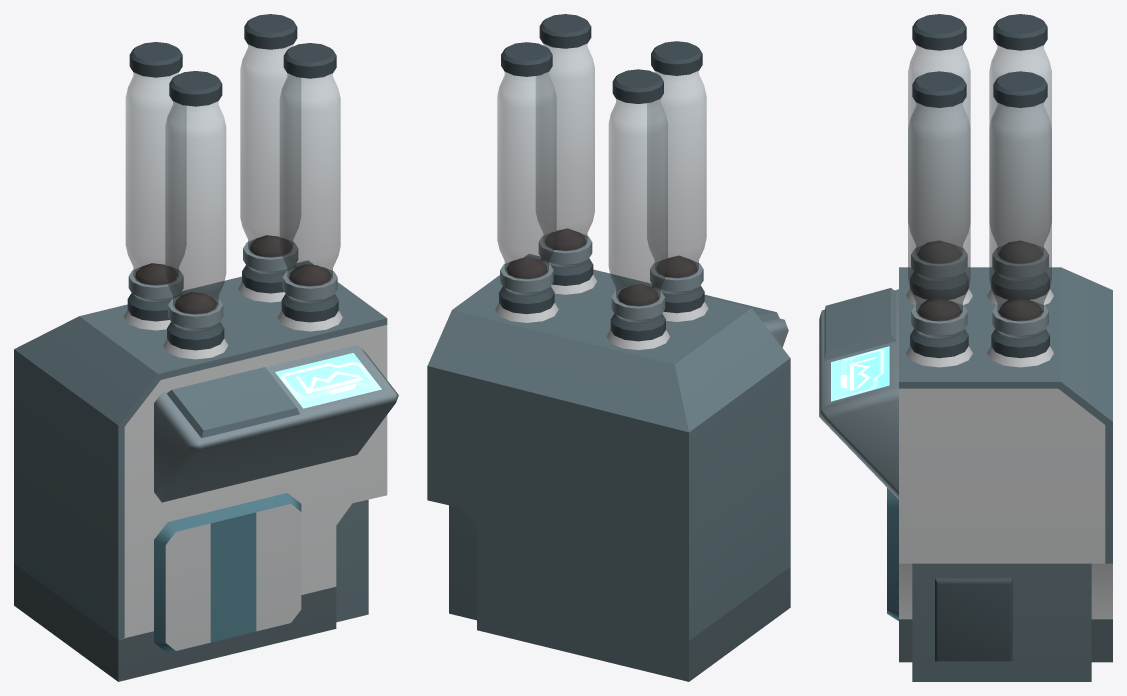
Rendered from Mini_farm_004.glb.
The picture shows the model from 3 angles, left to right: view 1: azimuth 30°, elevation 25°; view 2: azimuth 150°, elevation 25°; view 3: azimuth 270°, elevation 25°; orthographic projection. The views are drawn at different scales.
Visible parts, largest first — view 1: Mini_farm_004; view 2: Mini_farm_004; view 3: Mini_farm_004.
Part boxes in pixels (x1,y1,x2,y2): Mini_farm_004: [14, 14, 398, 681]; Mini_farm_004: [427, 14, 790, 681]; Mini_farm_004: [819, 14, 1112, 681].
Bounding box in the file's own units: 0.7927 × 1.59 × 0.731.
Materials: 3 (3 with a texture image).
